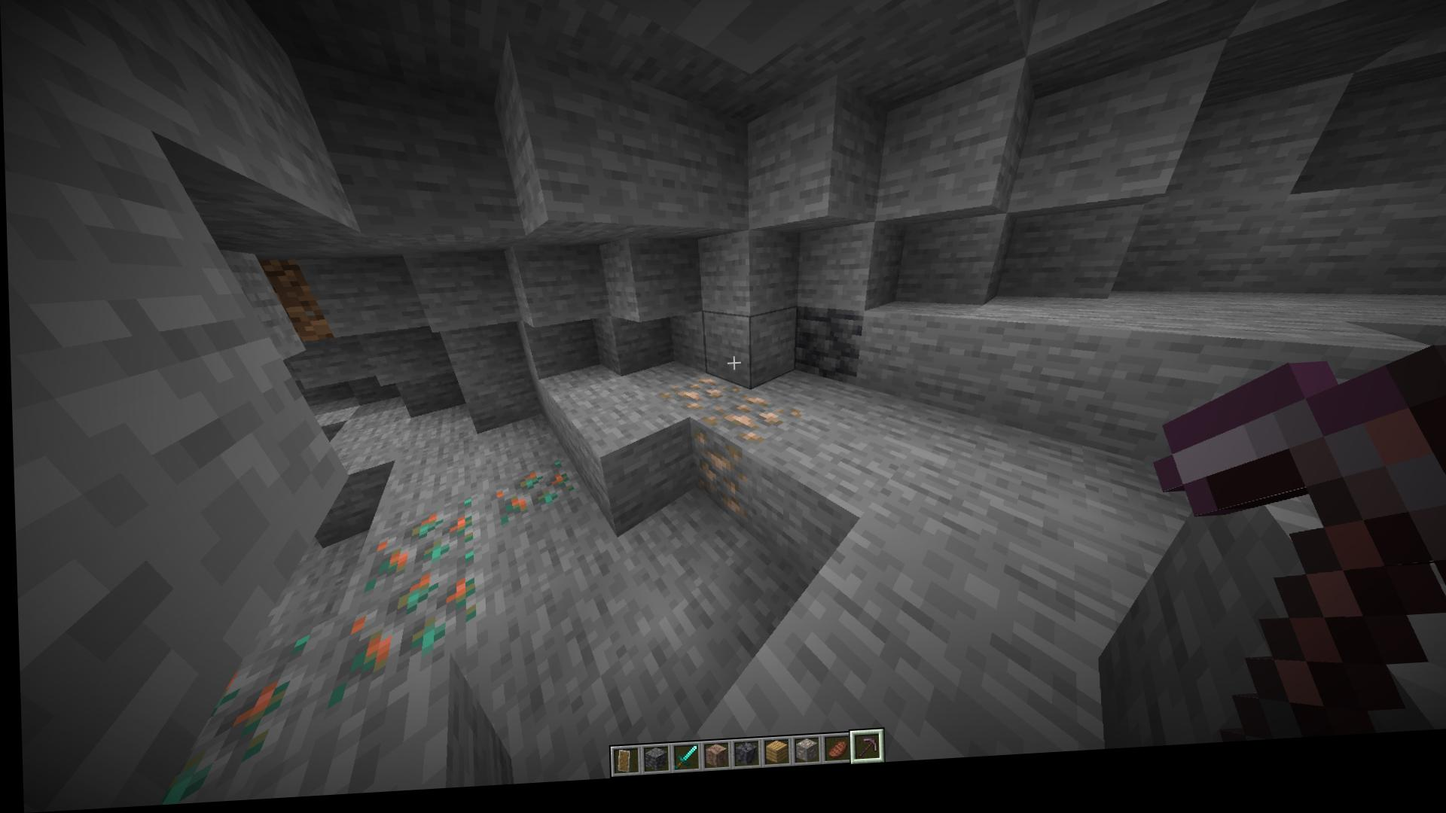iron ore: (683, 431, 741, 525), (707, 404, 803, 458), (654, 379, 732, 422)
